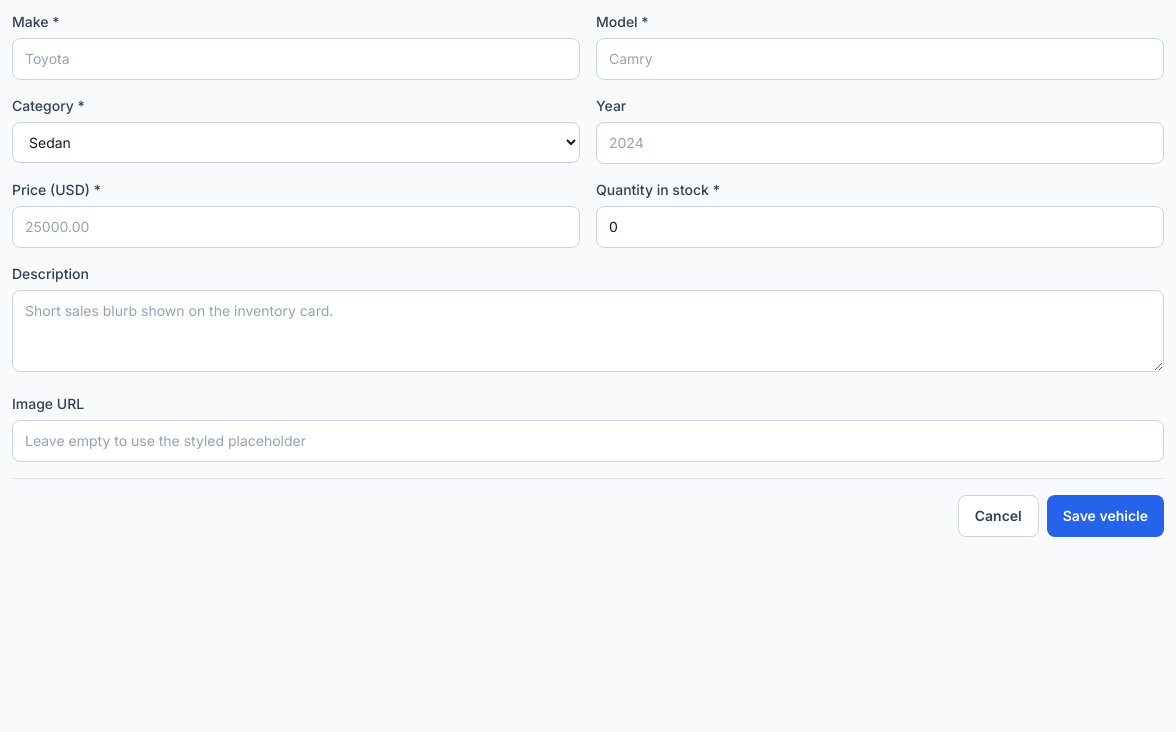
Test case: VehicleForm validation › blocks submission and reports missing required fields
The width and height of the screenshot is (1176, 732).
Step 1. Click the button "Save vehicle" → coordinates (1105, 516), box x1=1047 y1=495 x2=1164 y2=537
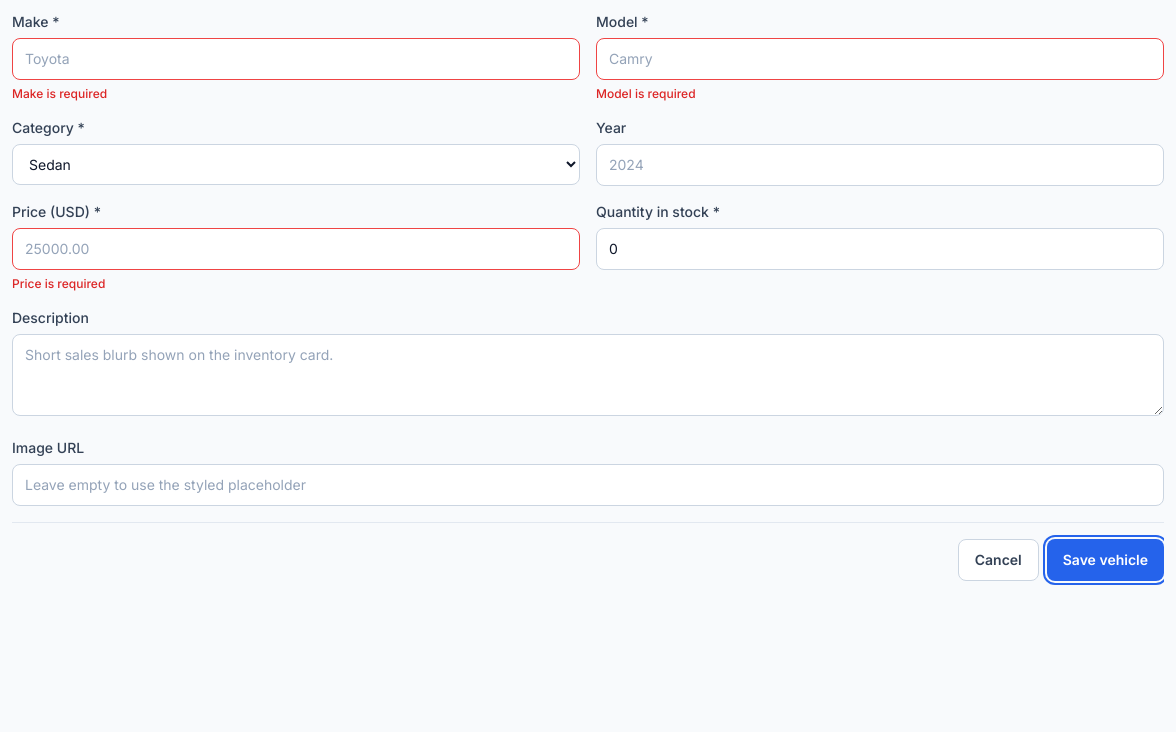
Result: the text "Make is required" is shown at x1=12 y1=86 x2=107 y2=101
Result: the text "Model is required" is shown at x1=596 y1=86 x2=696 y2=101
Result: the text "Price is required" is shown at x1=12 y1=276 x2=105 y2=291
